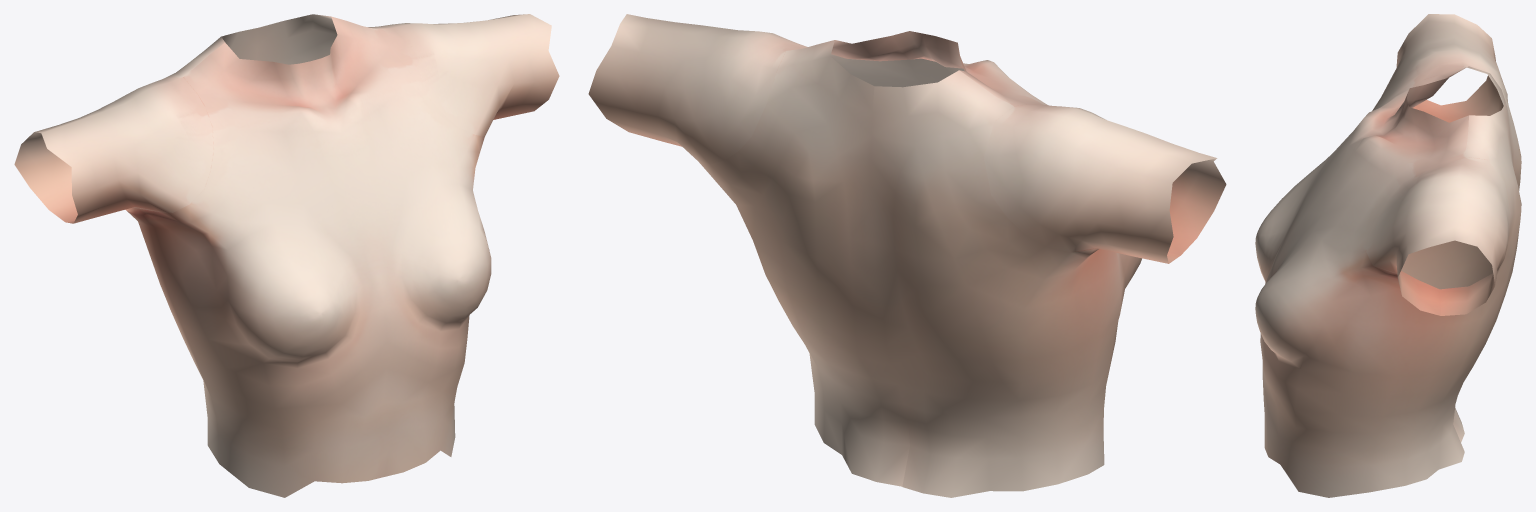
File: Shirt.fbx
3 views of the same model, side by side, from view 1: azimuth 30°, elevation 25°; view 2: azimuth 150°, elevation 25°; view 3: azimuth 270°, elevation 25° (orthographic). The views are drawn at different scales.
Visible parts, largest first — view 1: Shirt; view 2: Shirt; view 3: Shirt.
Boxes of the visible parts, x1,y1,x2,y2 form: Shirt: (14,14,559,497); Shirt: (588,14,1226,497); Shirt: (1255,14,1521,497).
Size of the model in its own units: 45.47 by 32.93 by 21.9.
